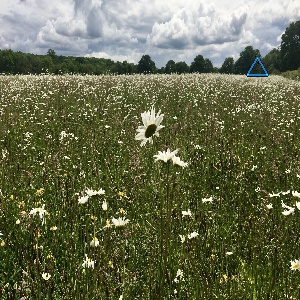triangle: (245, 54, 269, 81)
